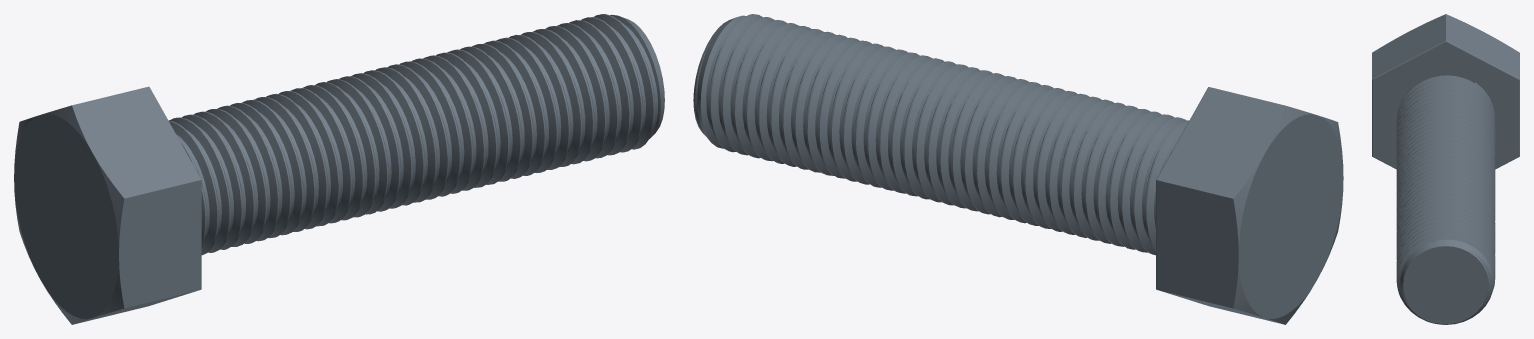
The model's file is Eye Bolt Screw v1.fbx.
3 views of the same model, side by side, from view 1: azimuth 30°, elevation 25°; view 2: azimuth 150°, elevation 25°; view 3: azimuth 270°, elevation 25° (orthographic). The views are drawn at different scales.
Visible parts, largest first — view 1: Body1; view 2: Body1; view 3: Body1.
Part boxes in pixels (x1,y1,x2,y2): Body1: (14,14,664,324); Body1: (693,14,1343,324); Body1: (1372,14,1519,324).
Size of the model in its own units: 2.34 by 0.866 by 0.75.
